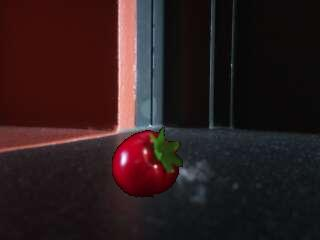Tomato: (109, 126, 186, 198)
